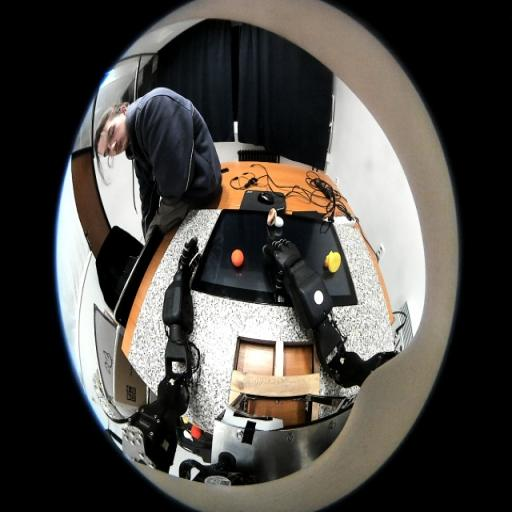Duck: (324, 250, 342, 273)
LeftHand: (178, 258, 193, 276)
Mushroom: (267, 208, 284, 227)
Orange: (231, 249, 244, 267)
RightHand: (275, 243, 300, 263)
